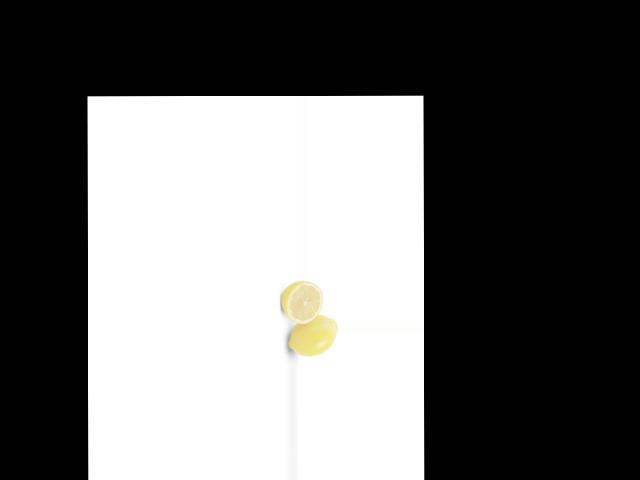lemon: (285, 312, 339, 359)
